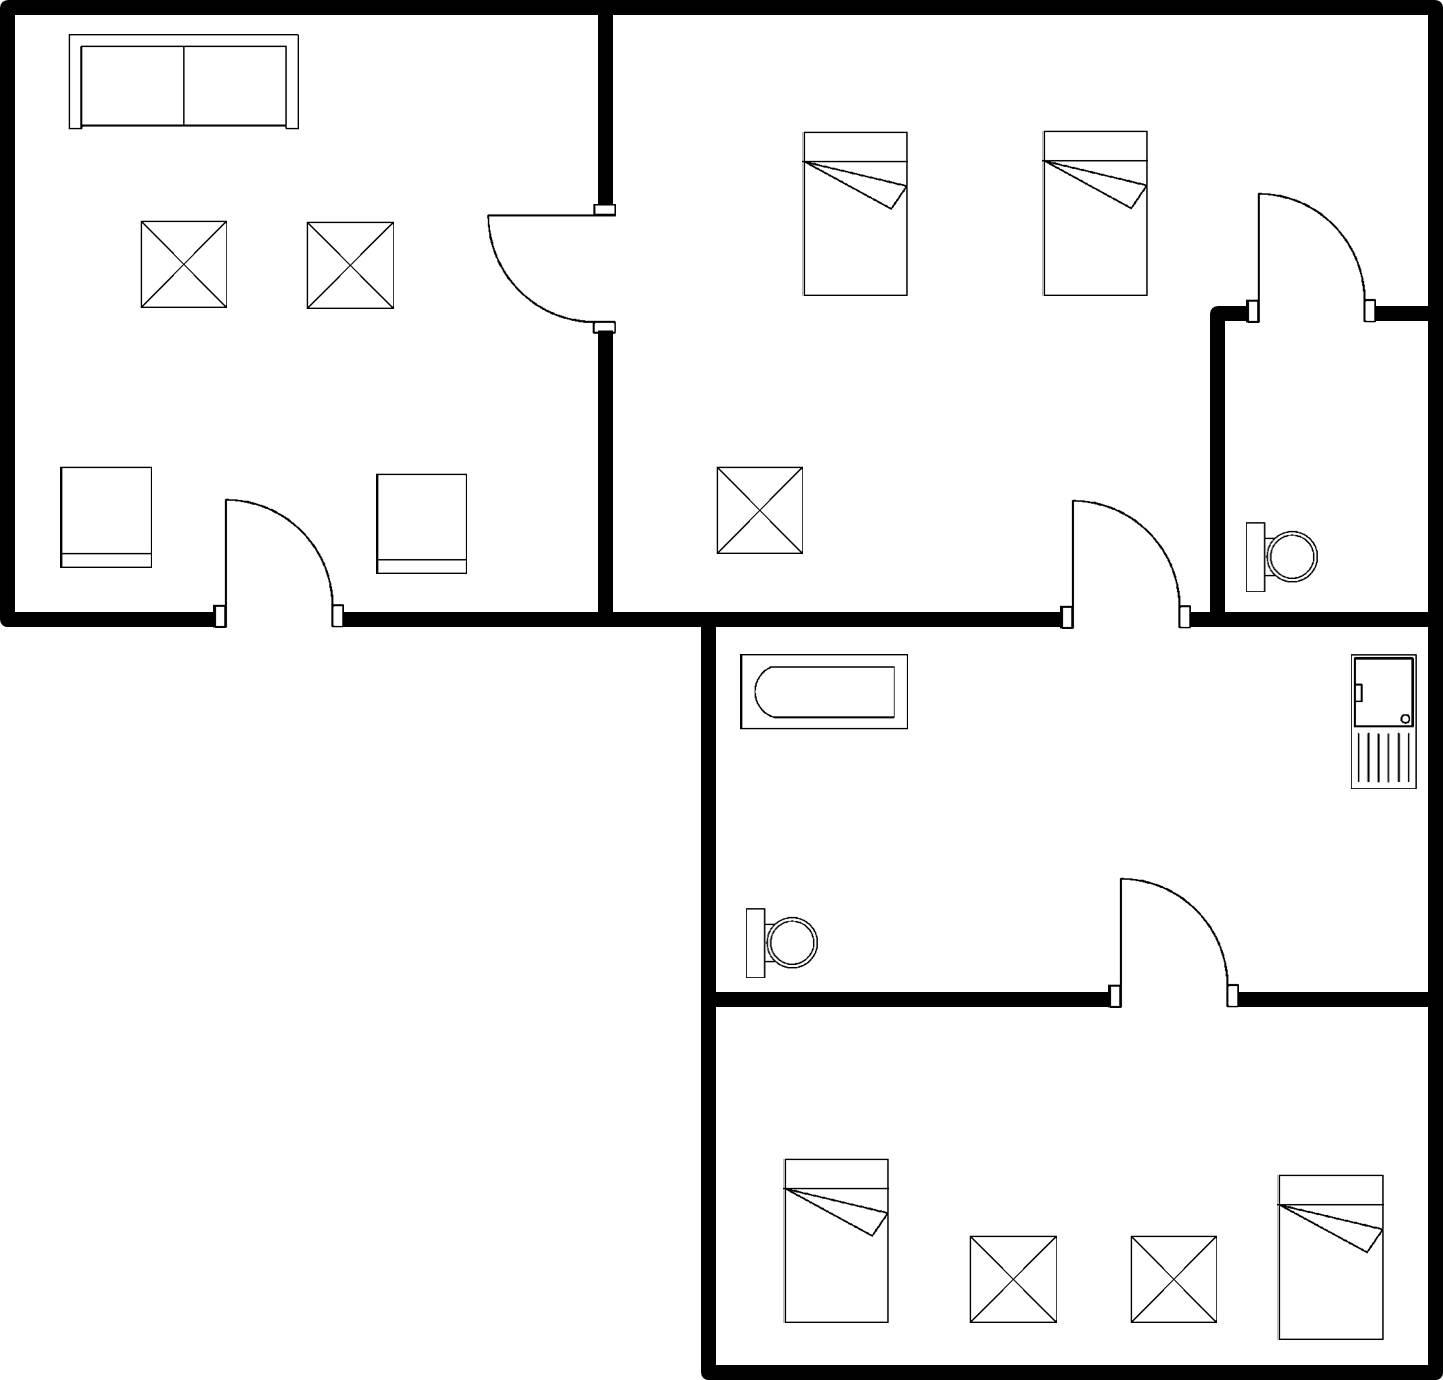bed: (1027, 113, 1160, 307), (1264, 1164, 1395, 1350), (769, 1145, 899, 1334), (795, 121, 916, 303)
sink: (1339, 644, 1422, 803)
sofa: (57, 24, 307, 140)
toilet: (1234, 512, 1324, 603), (737, 896, 823, 986)
tub: (731, 644, 932, 742)
